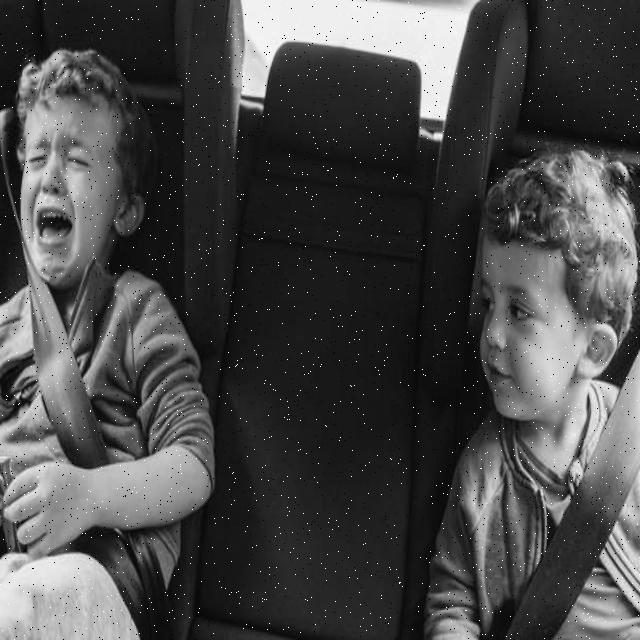Sadness: (18, 94, 120, 288)
